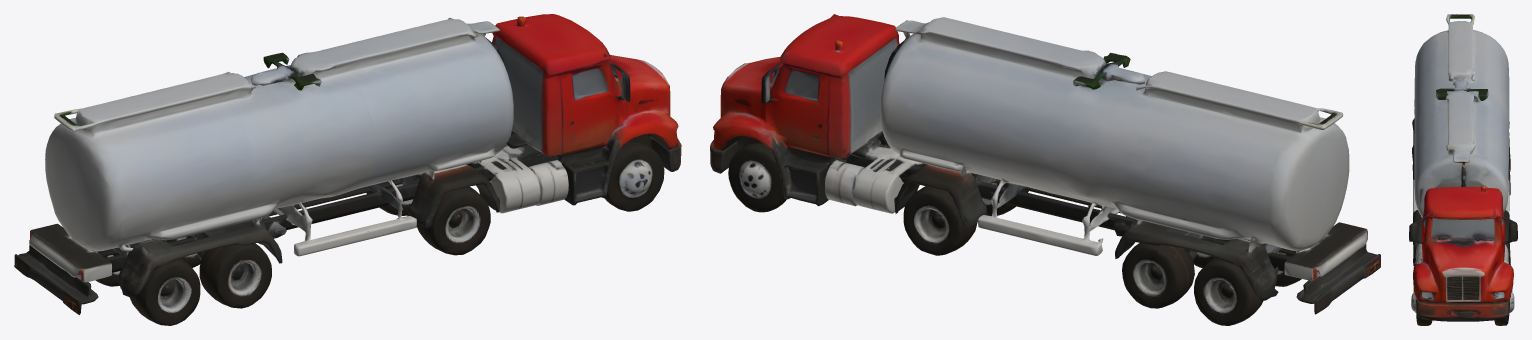
File: tanker.glb
3 views of the same model, side by side, from view 1: azimuth 30°, elevation 25°; view 2: azimuth 150°, elevation 25°; view 3: azimuth 270°, elevation 25° (orthographic). The views are drawn at different scales.
Parts seen in each view (by area): view 1: tripo_node_613208e1-dce9-4172-8444-ad67c4609121; view 2: tripo_node_613208e1-dce9-4172-8444-ad67c4609121; view 3: tripo_node_613208e1-dce9-4172-8444-ad67c4609121.
Boxes of the visible parts, left/top/right/bottom form: tripo_node_613208e1-dce9-4172-8444-ad67c4609121: left=14, top=14, right=681, bottom=325; tripo_node_613208e1-dce9-4172-8444-ad67c4609121: left=710, top=14, right=1380, bottom=325; tripo_node_613208e1-dce9-4172-8444-ad67c4609121: left=1409, top=14, right=1517, bottom=325.
Bounding box in the file's own units: 12 × 3.74 × 2.77.
Materials: 1 (1 with a texture image).
